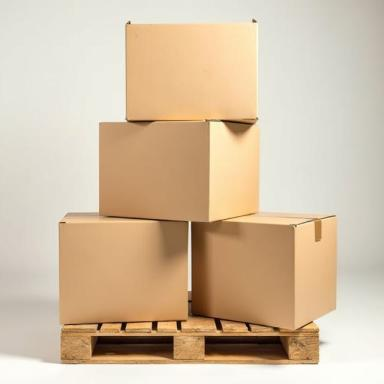pallet: (60, 290, 319, 364), (97, 336, 173, 343)
